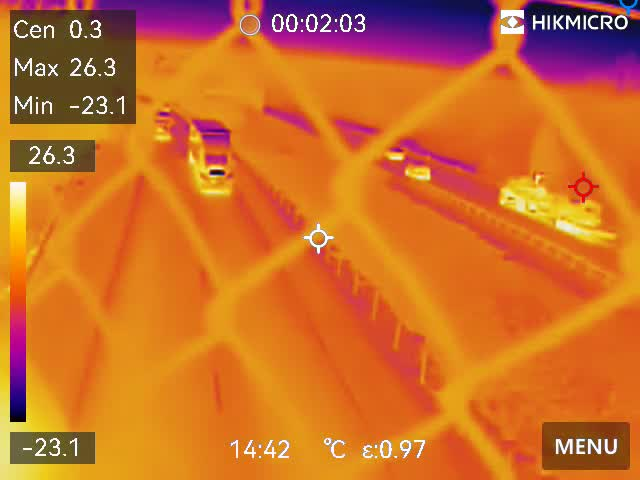heavyTruck: (497, 157, 636, 244), (187, 116, 240, 200)
smallCar: (403, 163, 433, 180)
vehicle: (379, 143, 406, 163)
